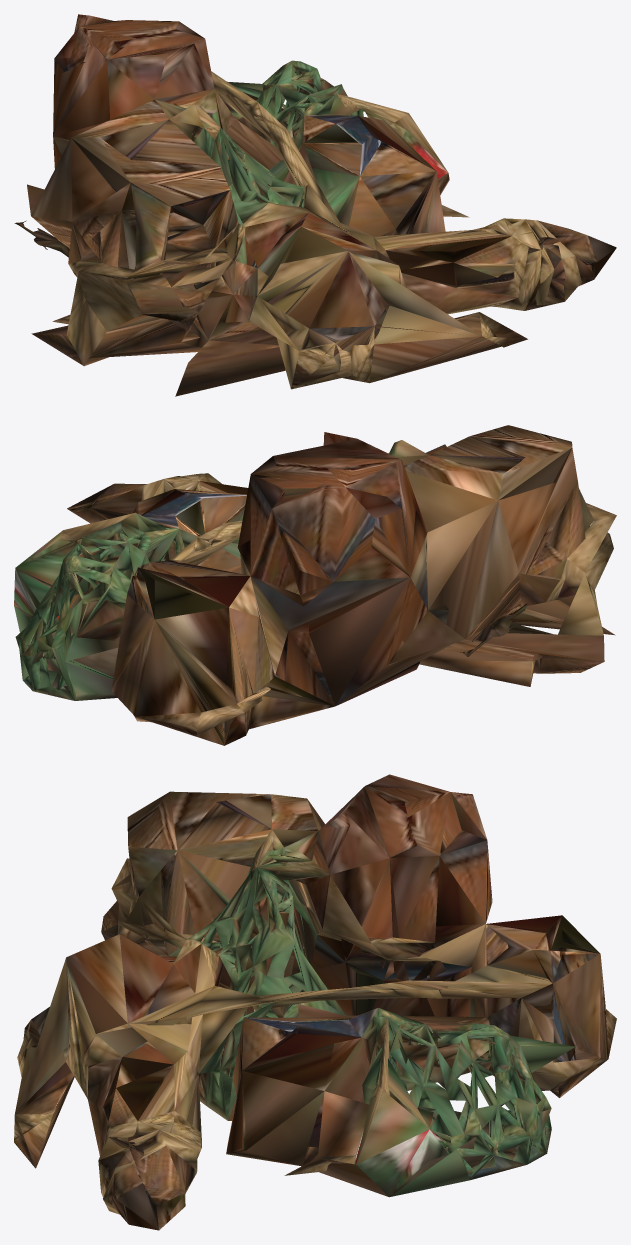
Rendered from cargo_crates.glb.
3 views of the same model, one above another, from view 1: azimuth 30°, elevation 25°; view 2: azimuth 150°, elevation 25°; view 3: azimuth 270°, elevation 25° (orthographic). The views are drawn at different scales.
Parts seen in each view (by area): view 1: Model; view 2: Model; view 3: Model.
Boxes of the visible parts, box(x1,y1,x2,y2) form: Model: box(14, 14, 616, 396); Model: box(14, 425, 616, 745); Model: box(14, 774, 616, 1230).
Size of the model in its own units: 4.01 by 1.72 by 3.62.
Materials: 1 (1 with a texture image).
